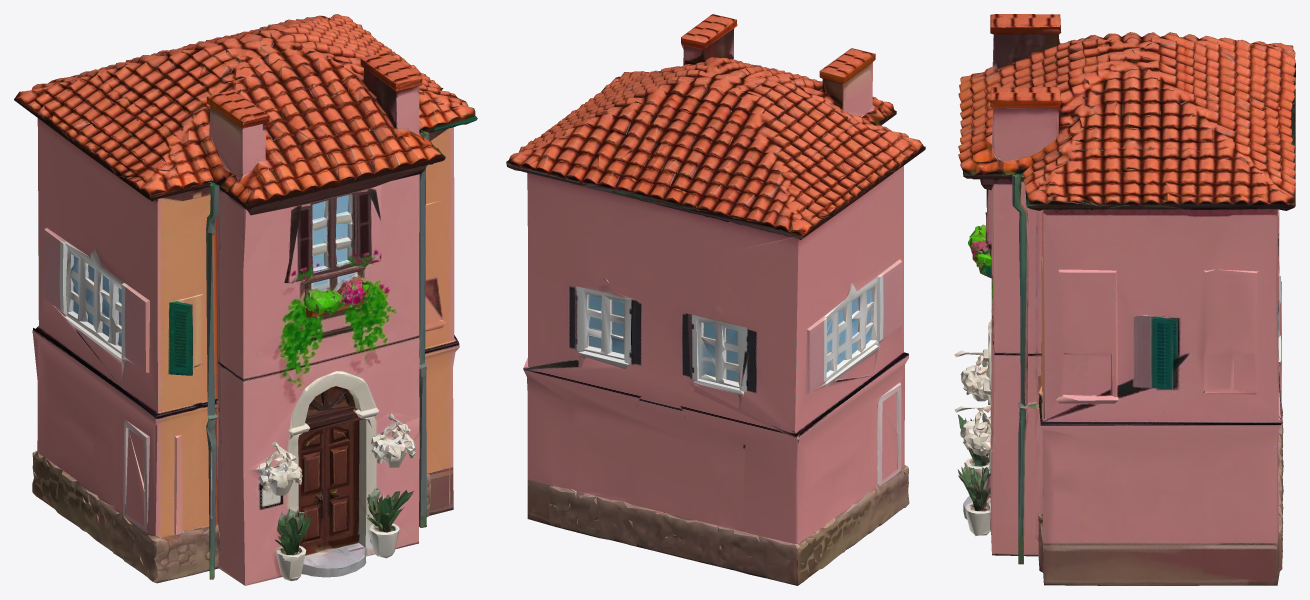
File: bldg3.glb
The picture shows the model from 3 angles, left to right: view 1: azimuth 30°, elevation 25°; view 2: azimuth 150°, elevation 25°; view 3: azimuth 270°, elevation 25°; orthographic projection. The views are drawn at different scales.
Bounding box in the file's own units: 1.39 × 1.9 × 1.26.
Materials: 1 (1 with a texture image).
